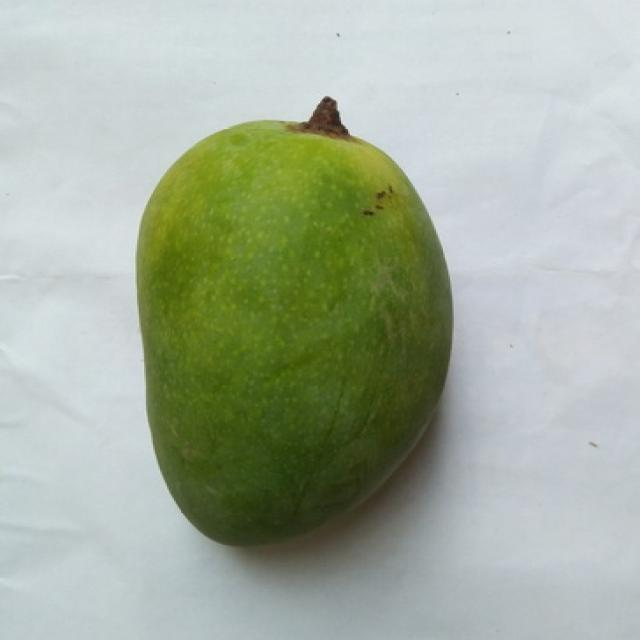Mango: (137, 98, 452, 545)
